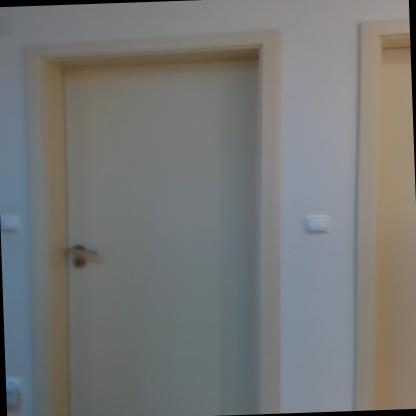closed: (17, 20, 324, 416)
